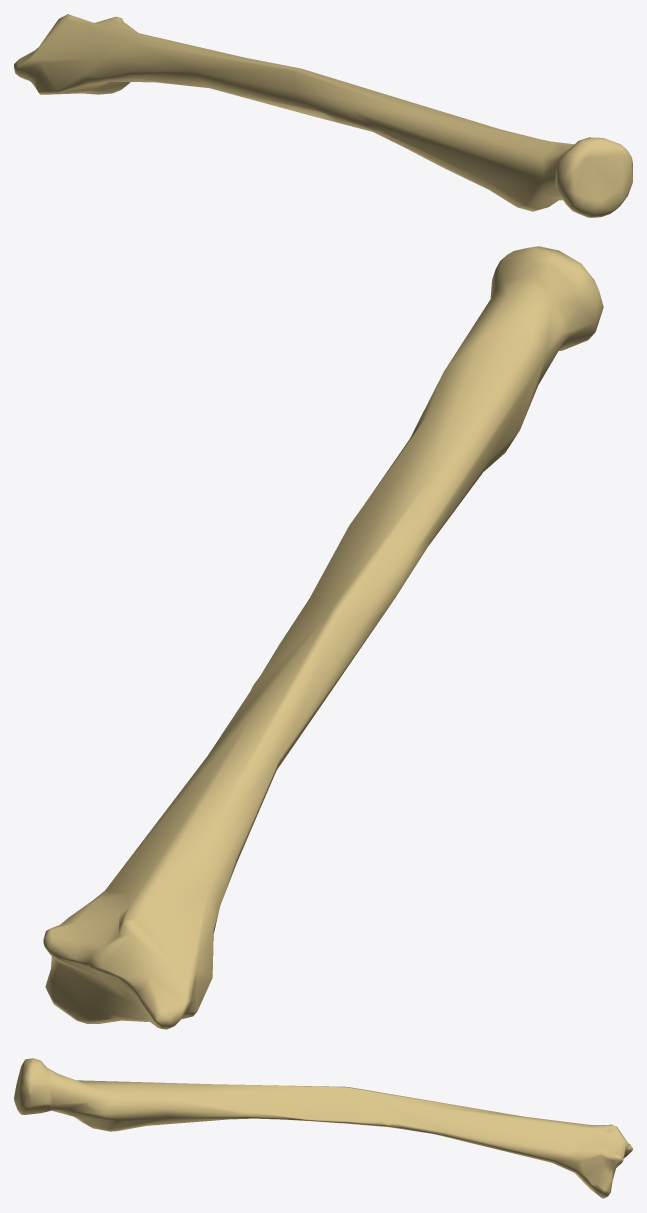
3 views of the same model, one above another, from view 1: azimuth 30°, elevation 25°; view 2: azimuth 150°, elevation 25°; view 3: azimuth 270°, elevation 25° (orthographic). The views are drawn at different scales.
Parts seen in each view (by area): view 1: 右侧桡骨; view 2: 右侧桡骨; view 3: 右侧桡骨.
Boxes of the visible parts, box(x1,y1,x2,y2) form: 右侧桡骨: box(14, 14, 632, 217); 右侧桡骨: box(43, 246, 603, 1029); 右侧桡骨: box(14, 1058, 632, 1198).
Size of the model in its own units: 0.091 by 0.1012 by 0.3492.
